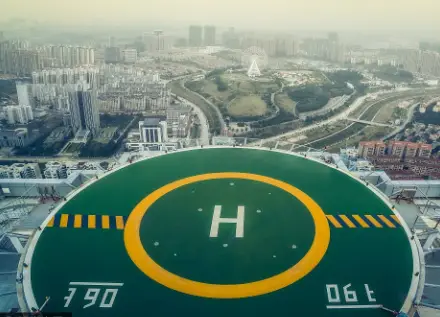Apron: (123, 170, 330, 299)
